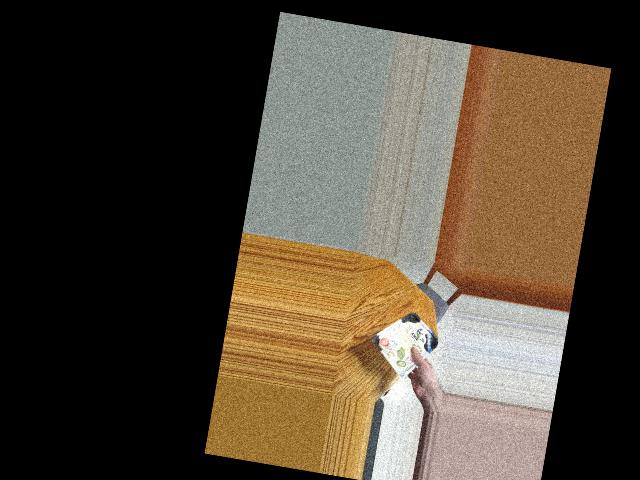cheese: (375, 316, 437, 363)
